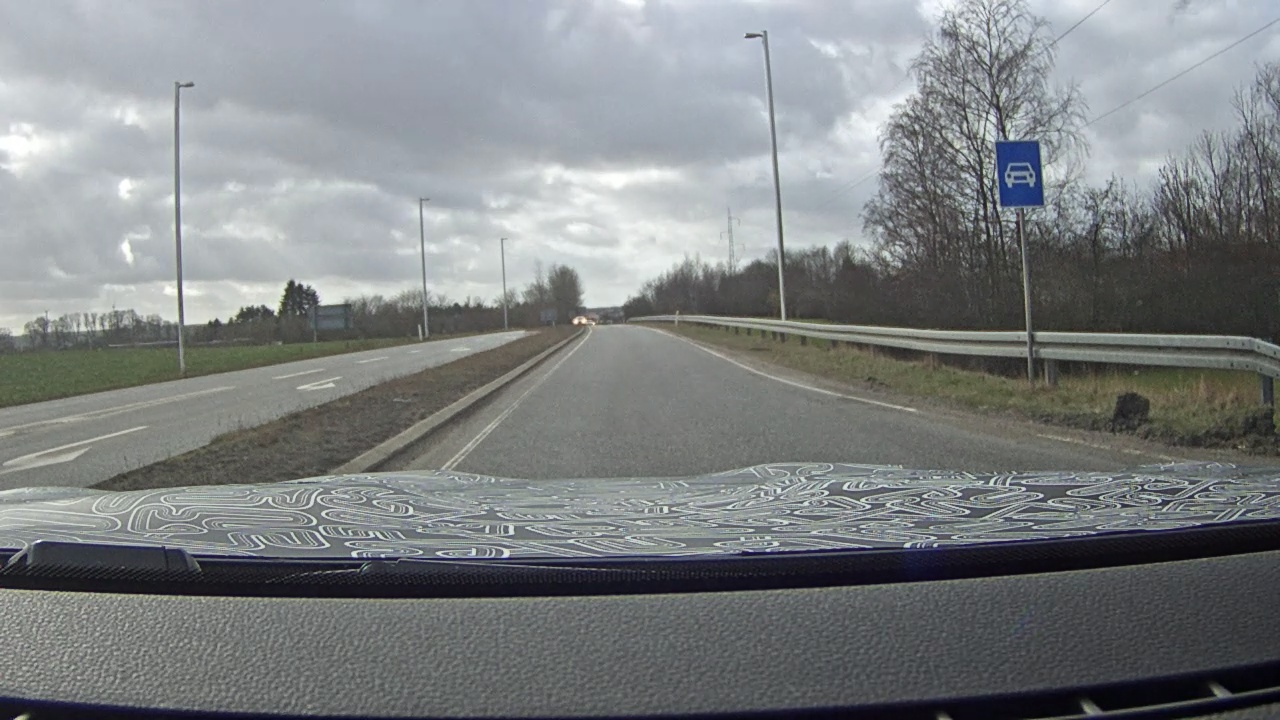Expressway_Begin: (994, 139, 1046, 209)
